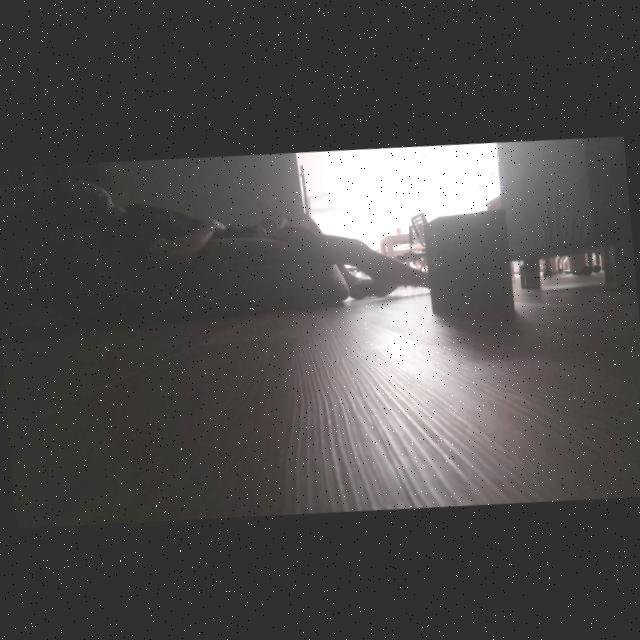F: (427, 232, 433, 263)
